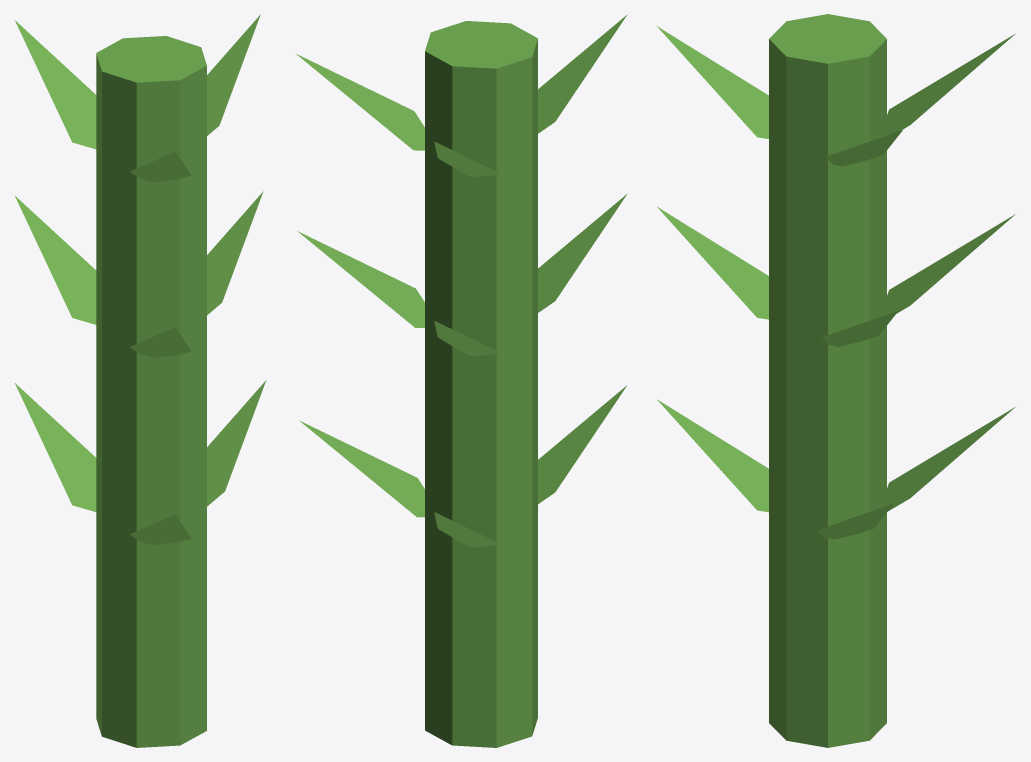
The model's file is Corn_statge_1.glb.
3 views of the same model, side by side, from view 1: azimuth 30°, elevation 25°; view 2: azimuth 150°, elevation 25°; view 3: azimuth 270°, elevation 25° (orthographic). The views are drawn at different scales.
Parts seen in each view (by area): view 1: Cylinder.002, Plane.003, Plane.005, Plane.004, Plane.006, Plane.007, Plane.008, Plane.002, Plane.001, Plane; view 2: Cylinder.002, Plane.008, Plane.007, Plane.006, Plane, Plane.001, Plane.002, Plane.005, Plane.003, Plane.004; view 3: Cylinder.002, Plane, Plane.002, Plane.001, Plane.005, Plane.004, Plane.003, Plane.008, Plane.007, Plane.006.
Boxes of the visible parts, bbox=[...] form: Cylinder.002: bbox=[96, 36, 206, 747]; Plane.003: bbox=[15, 20, 96, 149]; Plane.005: bbox=[15, 383, 96, 511]; Plane.004: bbox=[14, 195, 96, 324]; Plane.006: bbox=[207, 380, 266, 506]; Plane.007: bbox=[207, 191, 263, 314]; Plane.008: bbox=[207, 14, 260, 135]; Plane.002: bbox=[130, 151, 191, 182]; Plane.001: bbox=[130, 327, 191, 357]; Plane: bbox=[130, 514, 191, 545]; Cylinder.002: bbox=[425, 21, 537, 747]; Plane.008: bbox=[295, 53, 424, 150]; Plane.007: bbox=[297, 231, 424, 327]; Plane.006: bbox=[299, 420, 424, 517]; Plane: bbox=[538, 385, 627, 503]; Plane.001: bbox=[538, 194, 626, 312]; Plane.002: bbox=[538, 14, 627, 133]; Plane.005: bbox=[434, 512, 501, 547]; Plane.003: bbox=[434, 141, 500, 176]; Plane.004: bbox=[434, 321, 500, 356]; Cylinder.002: bbox=[769, 14, 886, 747]; Plane: bbox=[657, 399, 768, 512]; Plane.002: bbox=[657, 26, 768, 138]; Plane.001: bbox=[657, 207, 768, 319]; Plane.005: bbox=[887, 407, 1015, 511]; Plane.004: bbox=[887, 214, 1015, 314]; Plane.003: bbox=[887, 34, 1014, 135]; Plane.008: bbox=[826, 130, 902, 166]; Plane.007: bbox=[821, 310, 898, 346]; Plane.006: bbox=[817, 503, 893, 539].
Size of the model in its own units: 0.2501 by 0.768 by 0.3667.
